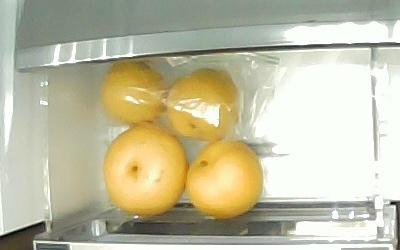pear: (101, 122, 190, 216), (184, 137, 263, 219)
pear_vinyl: (165, 66, 239, 141), (98, 61, 169, 124)
